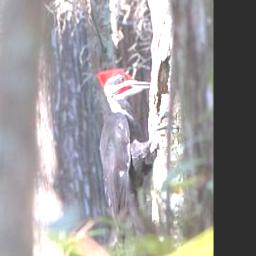Woodpecker: (94, 68, 180, 256)
